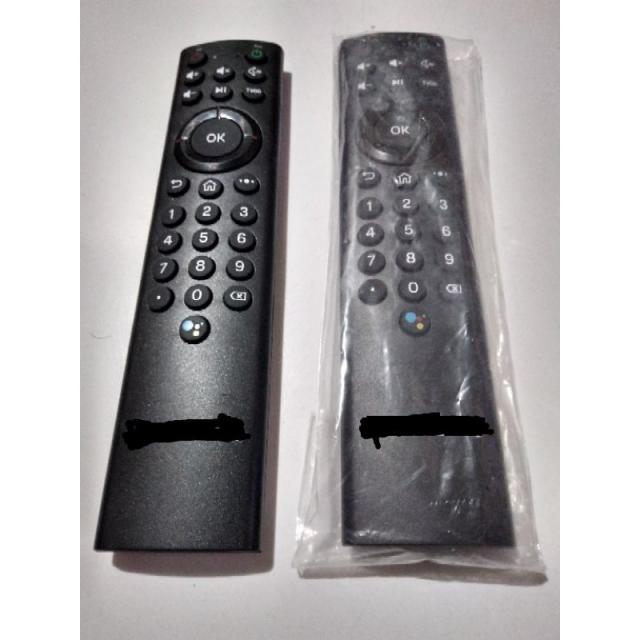remote: (342, 30, 530, 562), (90, 40, 282, 556)
